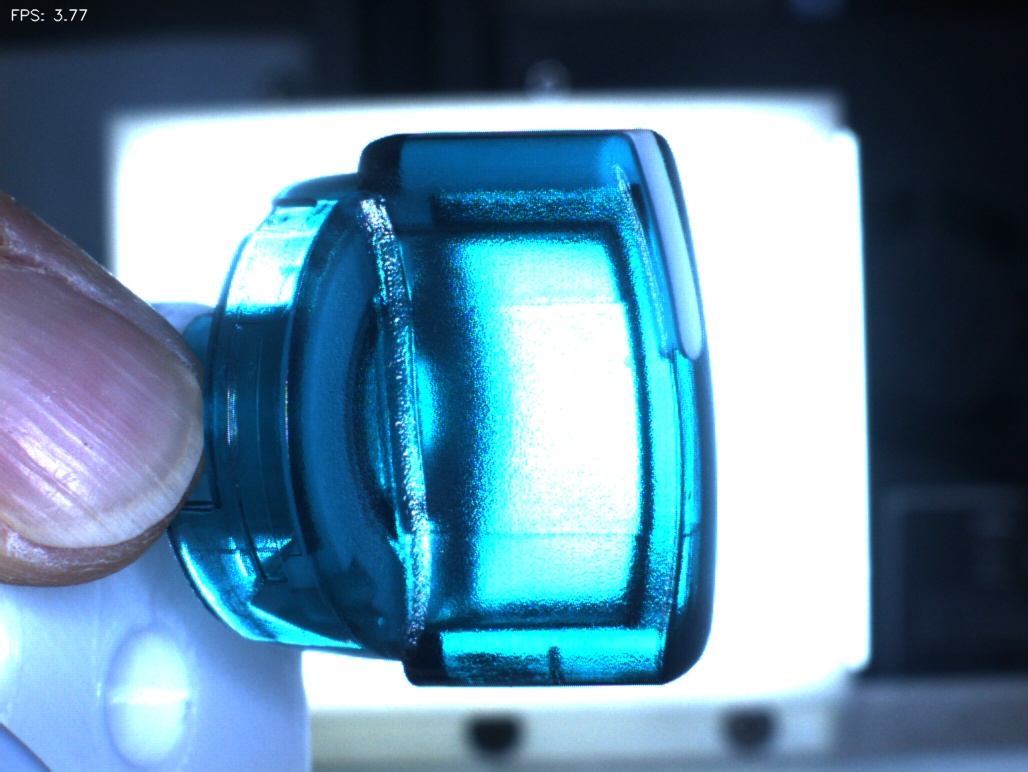Bulle: (512, 626, 602, 713)
